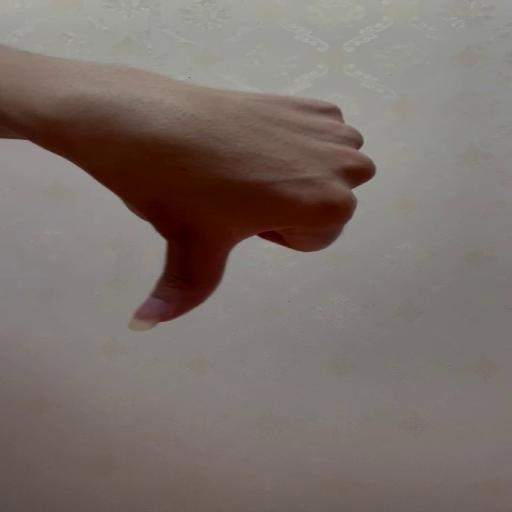thumbs_down: (18, 90, 380, 332)
